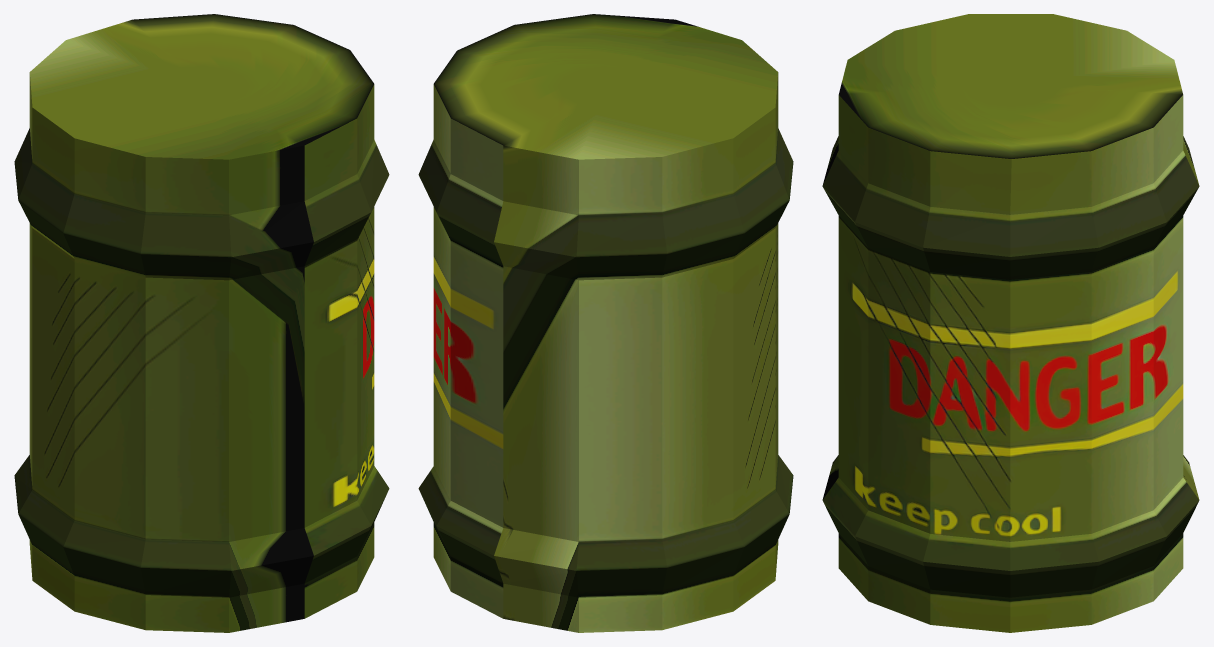
Rendered from Barrel.glb.
3 views of the same model, side by side, from view 1: azimuth 30°, elevation 25°; view 2: azimuth 150°, elevation 25°; view 3: azimuth 270°, elevation 25° (orthographic).
Parts seen in each view (by area): view 1: Barrel; view 2: Barrel; view 3: Barrel.
Boxes of the visible parts, box(x1,y1,x2,y2) form: Barrel: box(14, 14, 389, 632); Barrel: box(418, 14, 793, 632); Barrel: box(822, 14, 1199, 632).
Bounding box in the file's own units: 129 × 180 × 130.
1 material, 1 textured.
